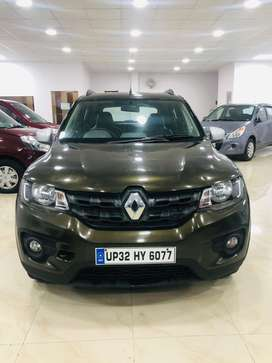UP32HY6077: (94, 247, 176, 266)
